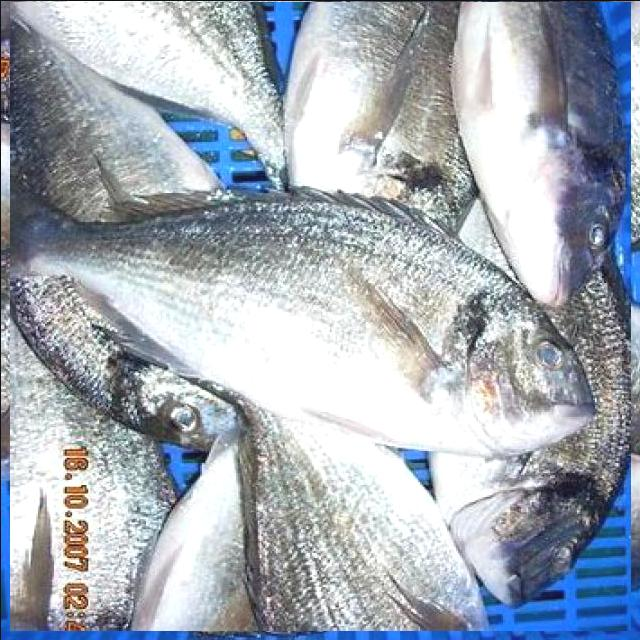Healthy Fish: (5, 0, 634, 627)
